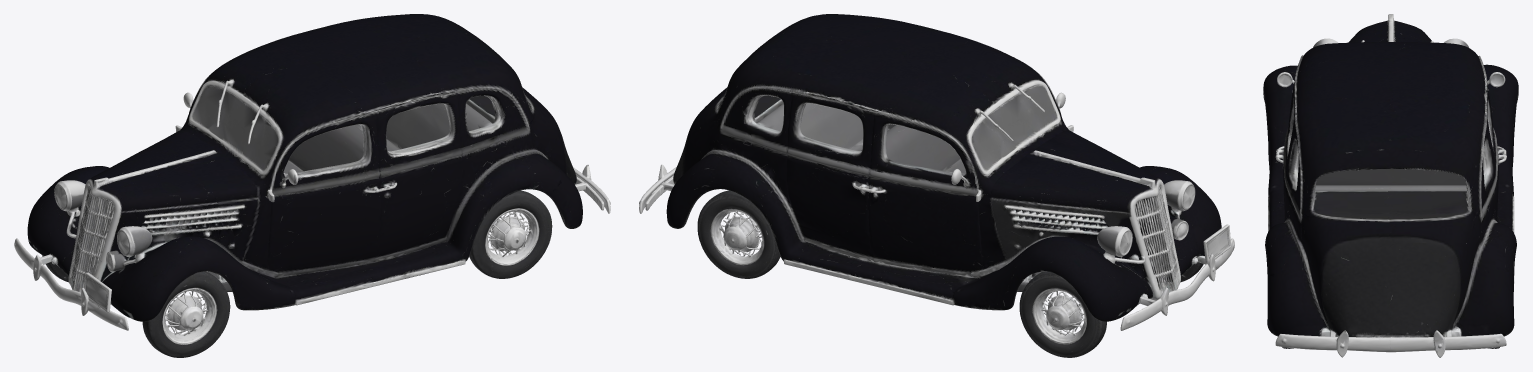
Rendered from taxi-model.glb.
3 renders of one model, left to right at view 1: azimuth 30°, elevation 25°; view 2: azimuth 150°, elevation 25°; view 3: azimuth 270°, elevation 25°, orthographic.
Size of the model in its own units: 1.9 by 0.7582 by 0.8131.
1 material, 1 textured.
